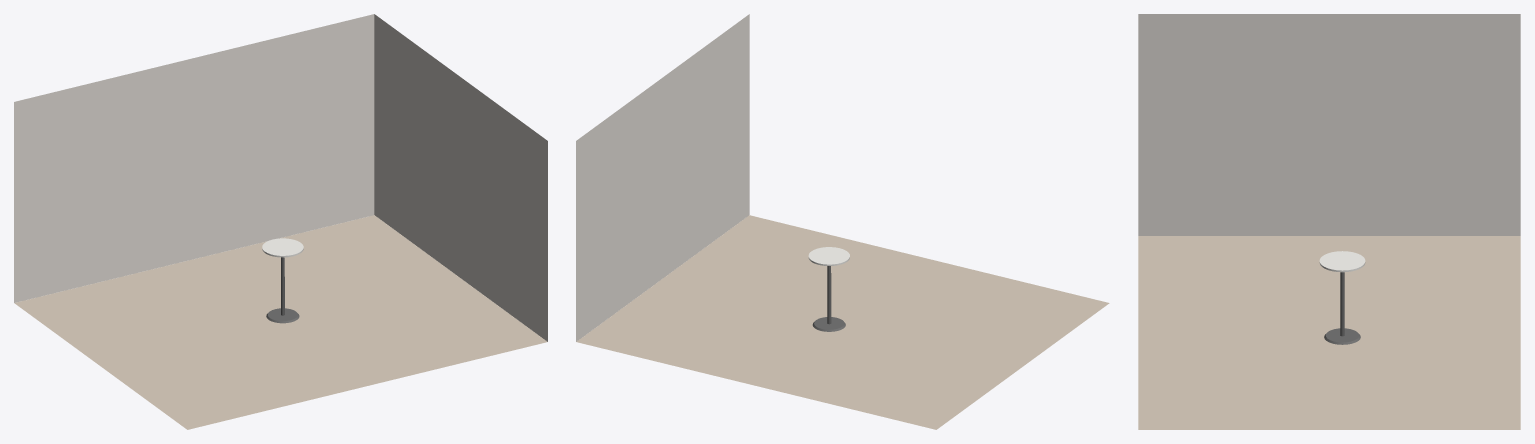
File: mesa-coctel.glb
3 renders of one model, left to right at view 1: azimuth 30°, elevation 25°; view 2: azimuth 150°, elevation 25°; view 3: azimuth 270°, elevation 25°, orthographic. The views are drawn at different scales.
Parts seen in each view (by area): view 1: sala, decoracion; view 2: sala, decoracion; view 3: sala, decoracion.
Boxes of the visible parts, x1,y1,x2,y2 form: sala: [14, 14, 547, 429]; decoracion: [262, 238, 303, 323]; sala: [576, 14, 1109, 429]; decoracion: [808, 247, 849, 331]; sala: [1138, 14, 1520, 429]; decoracion: [1319, 251, 1365, 344].
Size of the model in its own units: 6 by 3.2 by 5.
